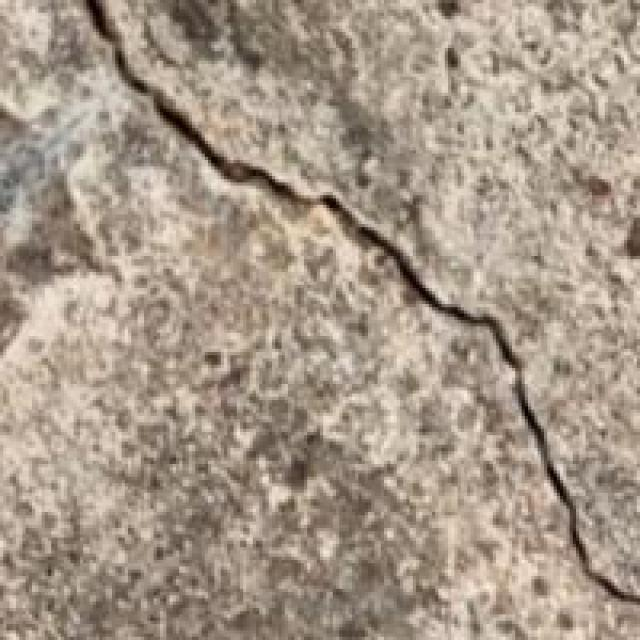Crack: (83, 0, 637, 637)
